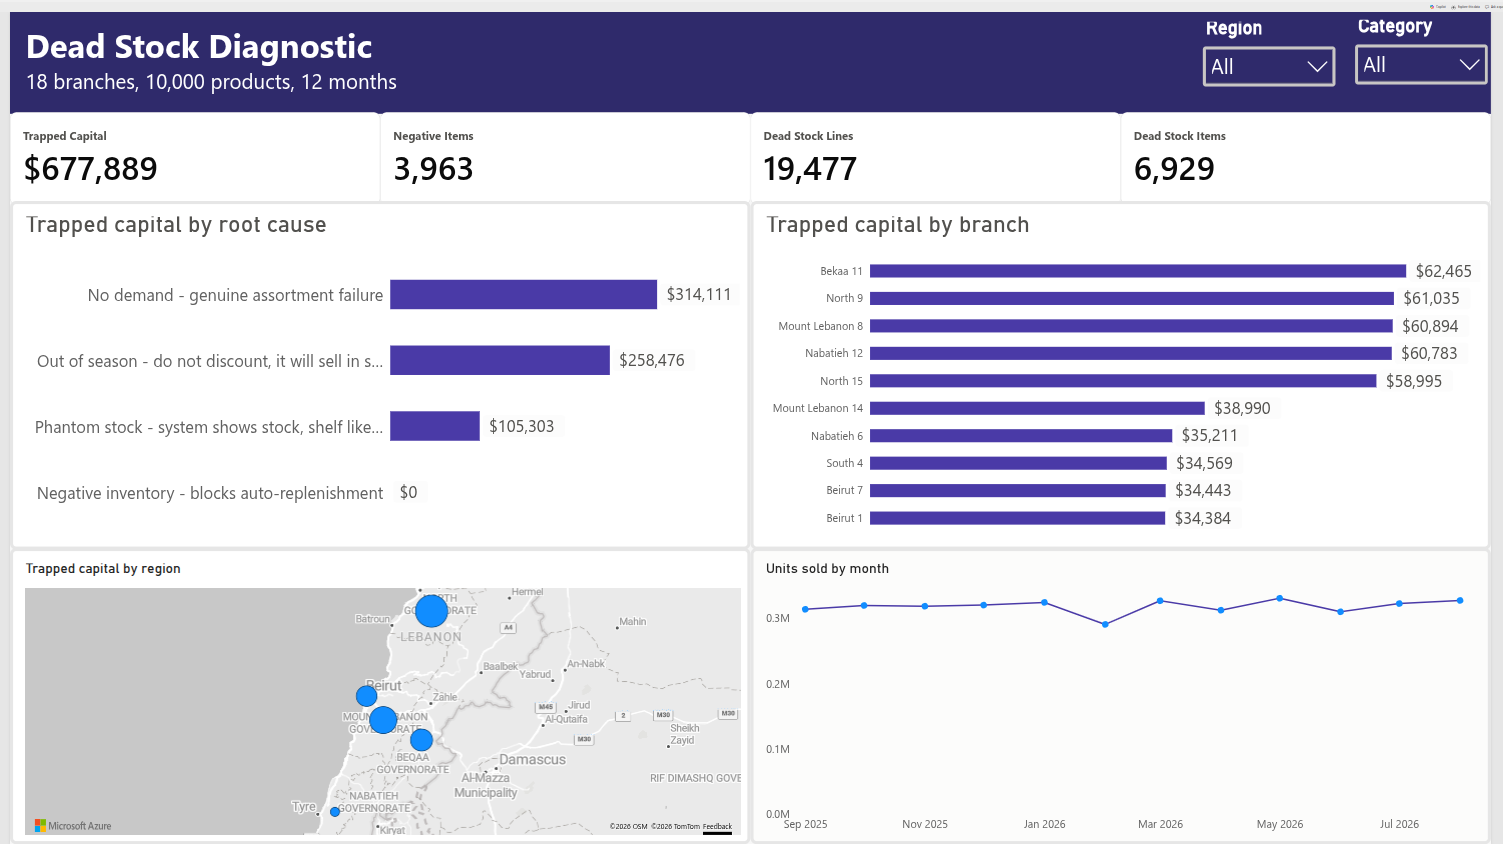

Layout of this report page (visuals, bound fields, positions):
{"tool":"powerbi","page":{"name":"Page 1","canvas":[1920,1080],"ordinal":0},"visuals":[{"type":"textbox","box":[0,0,1920,130],"z":0},{"type":"cardVisual","fields":{"Data":["fact_dead_stock.Trapped Capital"]},"box":[0,130,480,120],"z":1000},{"type":"cardVisual","fields":{"Data":["fact_dead_stock.Dead Stock Lines"]},"box":[960,130,480,120],"z":2000},{"type":"cardVisual","fields":{"Data":["fact_dead_stock.Dead Stock Items"]},"box":[1440,130,480,120],"z":3000},{"type":"cardVisual","fields":{"Data":["fact_negative.Negative Items"]},"box":[480,130,480,120],"z":4000},{"type":"clusteredBarChart","title":"Trapped capital by root cause","fields":{"Category":["fact_dead_stock.root_cause"],"Y":["fact_dead_stock.Trapped Capital"]},"box":[0,245,960,450],"z":5000},{"type":"clusteredBarChart","title":"Trapped capital by branch","fields":{"Category":["dim_store.store_name"],"Y":["fact_dead_stock.Trapped Capital"]},"box":[960,245,960,450],"z":6000},{"type":"slicer","fields":{"Values":["dim_store.region"]},"box":[1542.5,12.5,180,107.5],"z":7000},{"type":"slicer","fields":{"Values":["dim_product.category"]},"box":[1740,10,180,115],"z":8000},{"type":"lineChart","title":"Units sold by month","fields":{"Category":["fact_sales_monthly.month"],"Y":["fact_sales_monthly.Units Sold"]},"box":[960,695,960,385],"z":9000},{"type":"azureMap","title":"Trapped capital by region","fields":{"Category":["dim_store.region_map"],"Size":["fact_dead_stock.Trapped Capital"]},"box":[0,695,960,385],"z":10000}]}

Visuals, with their boxes in screenshot pixels (x1, y1, x2, y2), scaled from the page's 1920x1080 canvas onto the 1503x844 screenshot:
textbox: 0/0/1502/102
cardVisual - fact_dead_stock.Trapped Capital: 0/102/376/195
cardVisual - fact_dead_stock.Dead Stock Lines: 752/102/1127/195
cardVisual - fact_dead_stock.Dead Stock Items: 1127/102/1502/195
cardVisual - fact_negative.Negative Items: 376/102/752/195
"Trapped capital by root cause" clusteredBarChart: 0/191/752/543
"Trapped capital by branch" clusteredBarChart: 752/191/1502/543
slicer - dim_store.region: 1207/10/1348/94
slicer - dim_product.category: 1362/8/1502/98
"Units sold by month" lineChart: 752/543/1502/843
"Trapped capital by region" azureMap: 0/543/752/843
